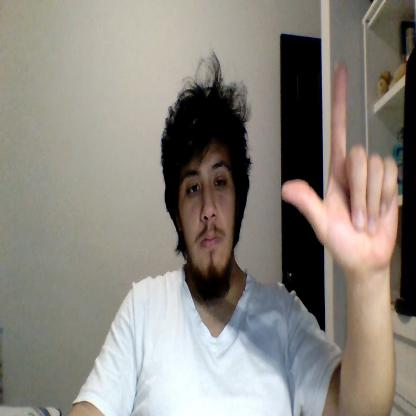L: (281, 59, 399, 269)
